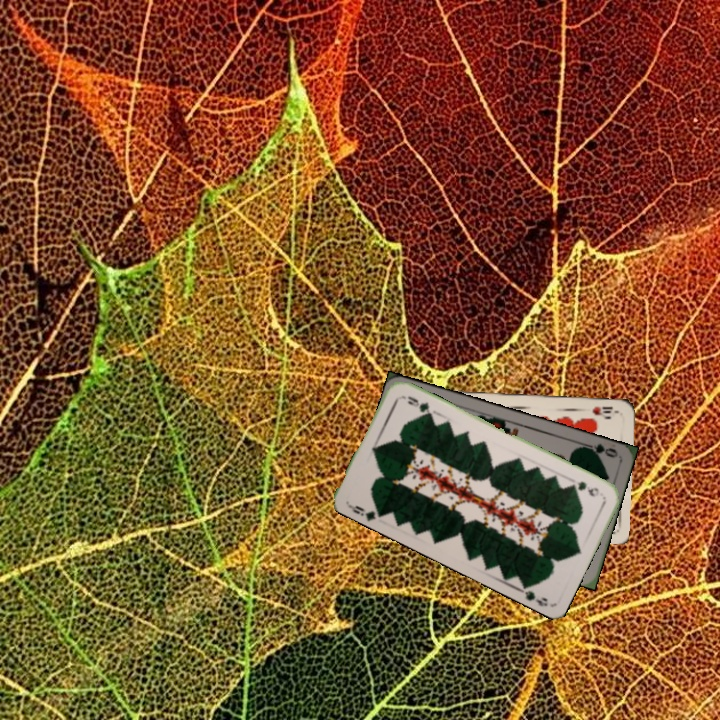G9: (344, 500, 386, 523), (573, 477, 602, 499)
GO: (578, 439, 620, 460)
H10: (588, 402, 615, 418)
